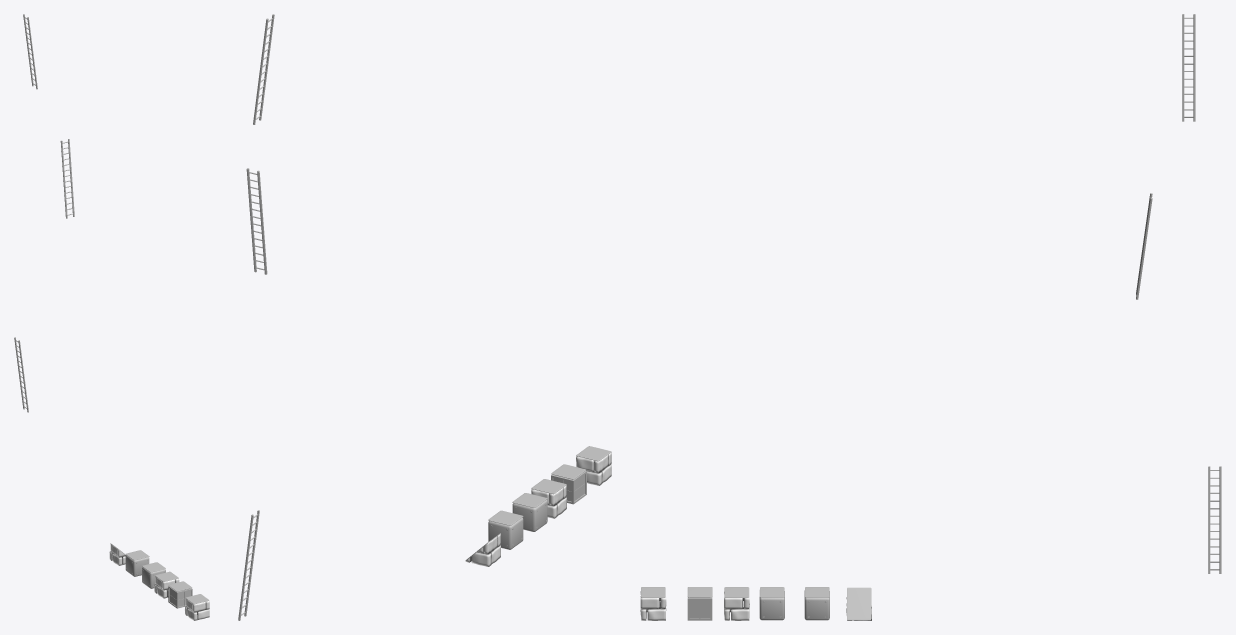
The model's file is Tower.fbx.
The picture shows the model from 3 angles, left to right: view 1: azimuth 30°, elevation 25°; view 2: azimuth 150°, elevation 25°; view 3: azimuth 270°, elevation 25°; orthographic projection. The views are drawn at different scales.
Visible parts, largest first — view 1: Bricks_low_3, Cube, Bricks_low; view 2: Cube, Bricks_low_3, Cube_2, Bricks_low_4, Bricks_low; view 3: road_1.
Boxes of the visible parts, x1,y1,x2,y2 form: Bricks_low_3: (185, 599, 209, 620); Cube: (125, 555, 149, 576); Bricks_low: (154, 576, 179, 598); Cube: (488, 517, 523, 549); Bricks_low_3: (576, 452, 611, 485); Cube_2: (512, 500, 547, 531); Bricks_low_4: (465, 534, 500, 566); Bricks_low: (531, 485, 566, 518); road_1: (847, 587, 871, 620).
Bounding box in the file's own units: 758 × 5262 × 4486.
7 materials, 1 textured.
